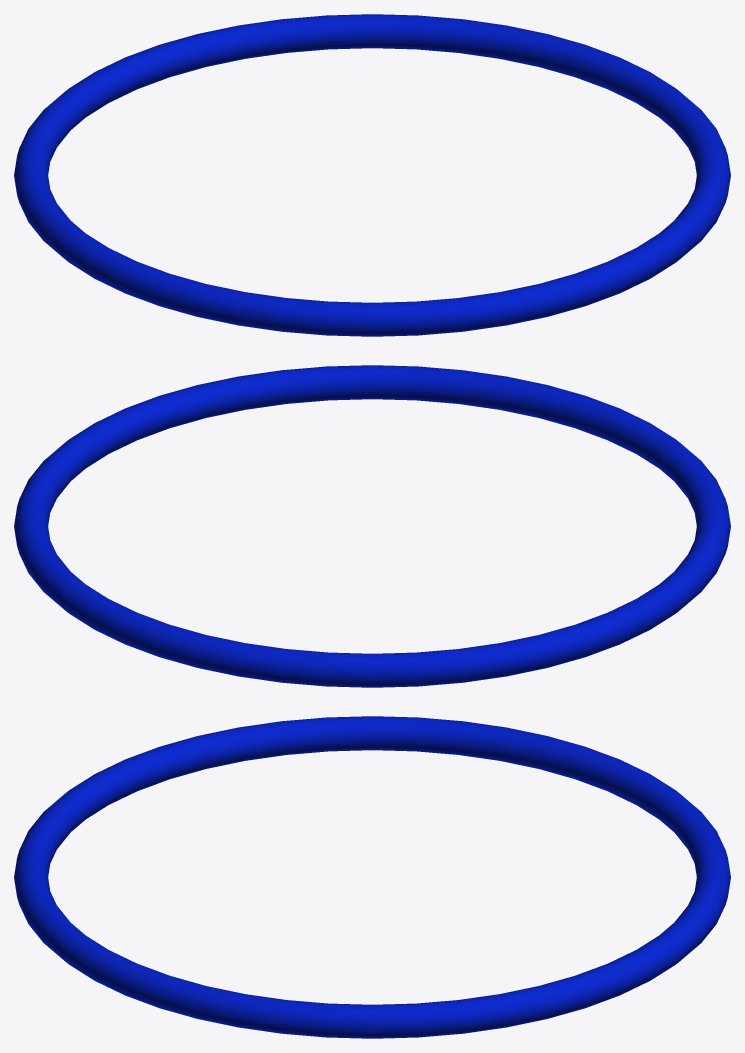
File: rotateGizmoBlue.obj
3 renders of one model, top to bottom at view 1: azimuth 30°, elevation 25°; view 2: azimuth 150°, elevation 25°; view 3: azimuth 270°, elevation 25°, orthographic.
Parts seen in each view (by area): view 1: Torus; view 2: Torus; view 3: Torus.
Boxes of the visible parts, bbox=[...] form: Torus: bbox=[14, 14, 730, 336]; Torus: bbox=[14, 365, 730, 687]; Torus: bbox=[14, 716, 730, 1038].
Bounding box in the file's own units: 0.525 × 0.025 × 0.525.
